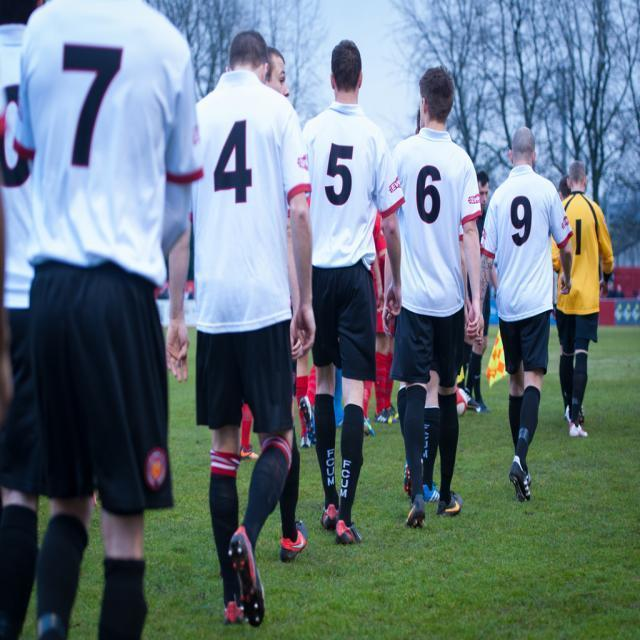ball: (457, 388, 467, 418)
